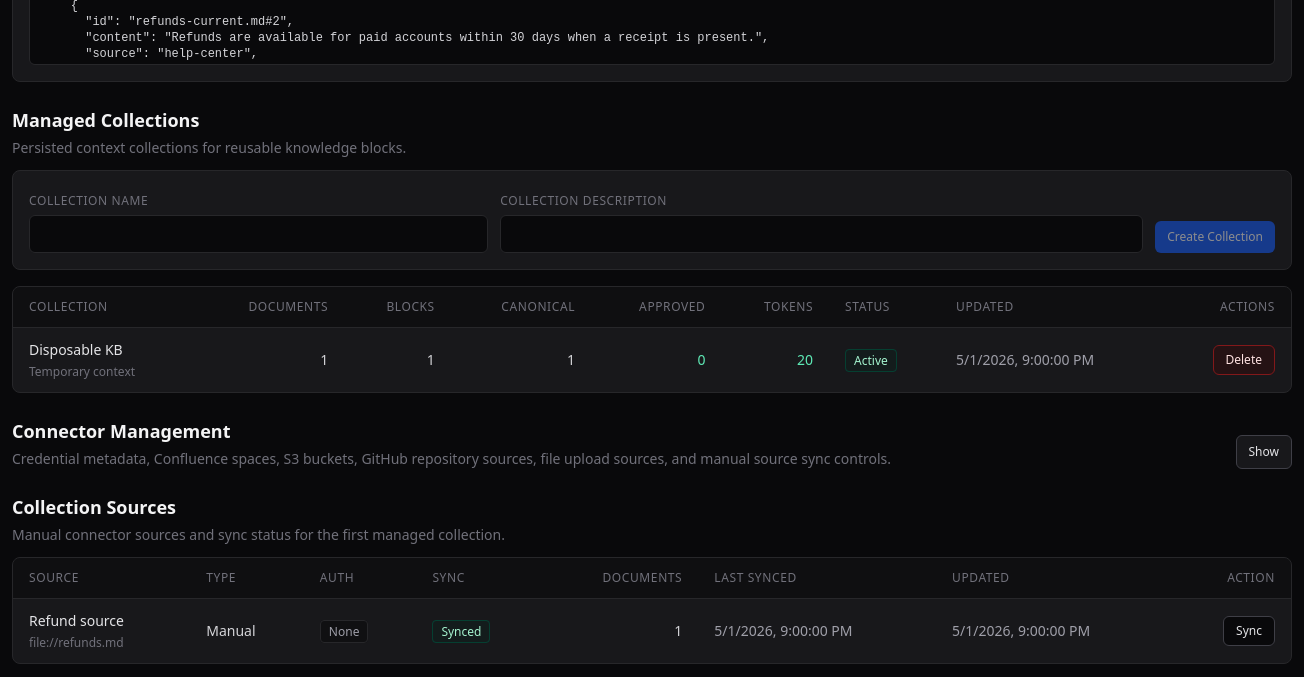
ContextOptimizerPanel › deletes a managed collection from the table
This screenshot has width=1304, height=677.
(page scrolled)
Expected: the text "Disposable KB" is shown, [29,340,123,359]
Expected: the text "Refund source" is shown, [29,611,124,630]
Click the button with aria-label "Delete collection Disposable KB". click: (1244, 360)
box: [1212,345,1275,375]
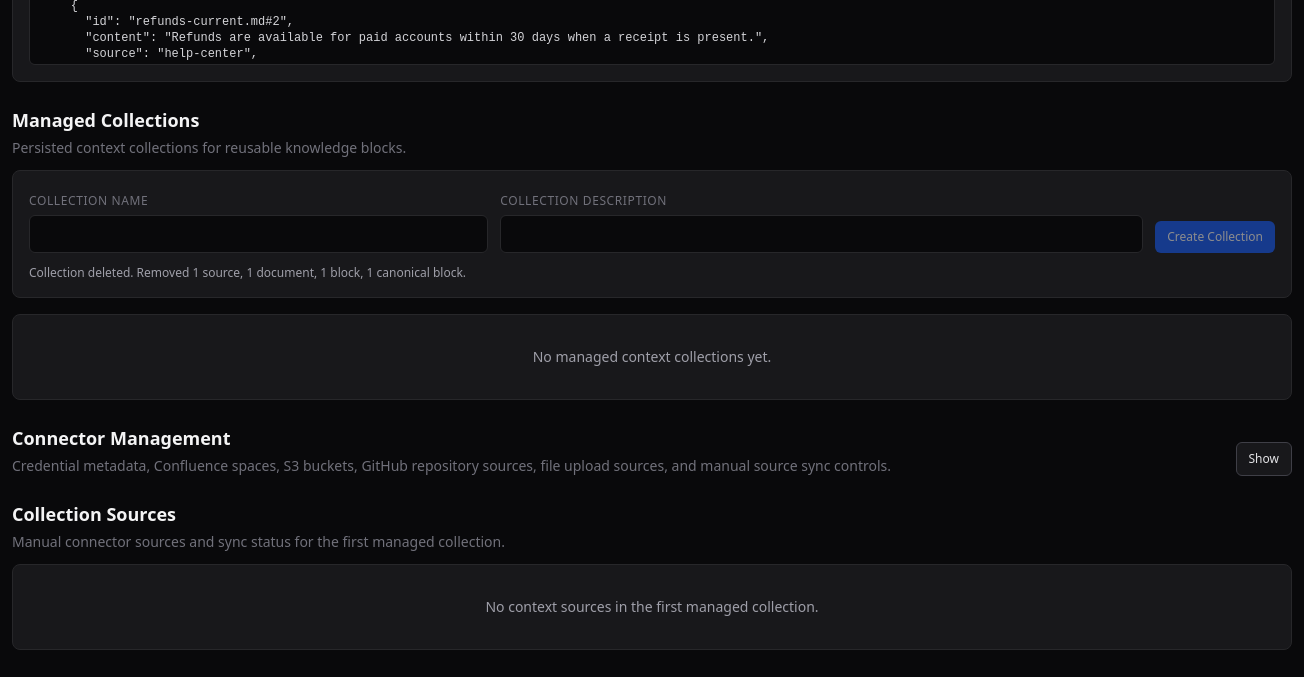
Expected: the text "Collection deleted. Removed 1 source, 1 document, 1 block, 1 canonical block." is shown, [29,264,466,281]
Expected: the text "Disposable KB" is gone
Expected: the text "Refund source" is gone
